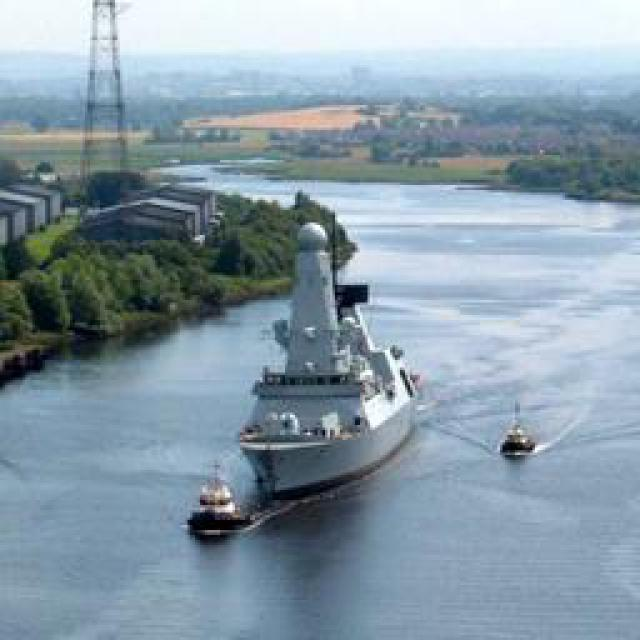Ship: (231, 215, 429, 498)
